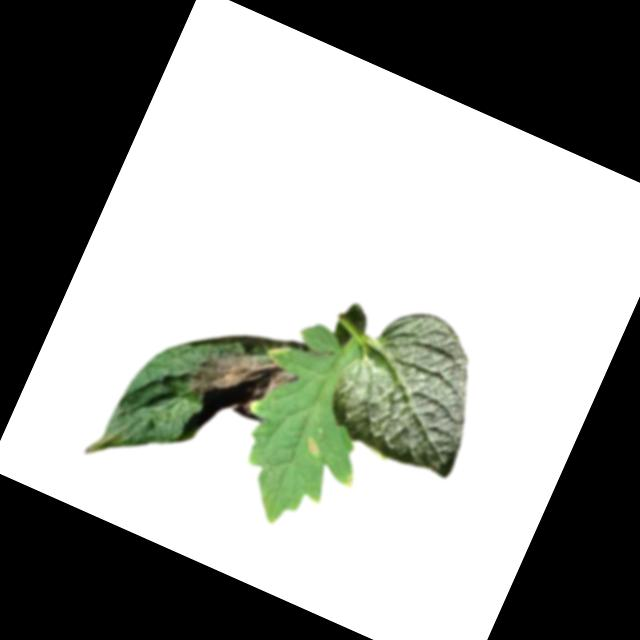Late_blight: (183, 332, 299, 431), (265, 340, 291, 364), (303, 436, 323, 457), (340, 470, 358, 491)
healthy: (317, 290, 507, 485)
